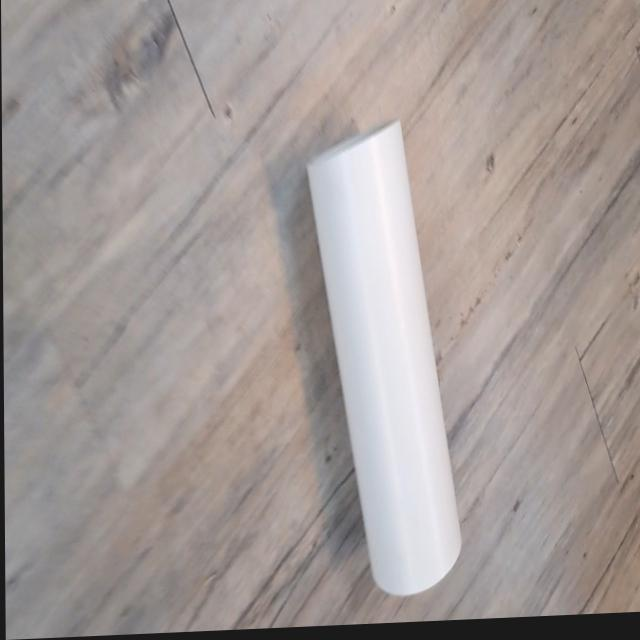CORAL: (275, 116, 469, 606)
